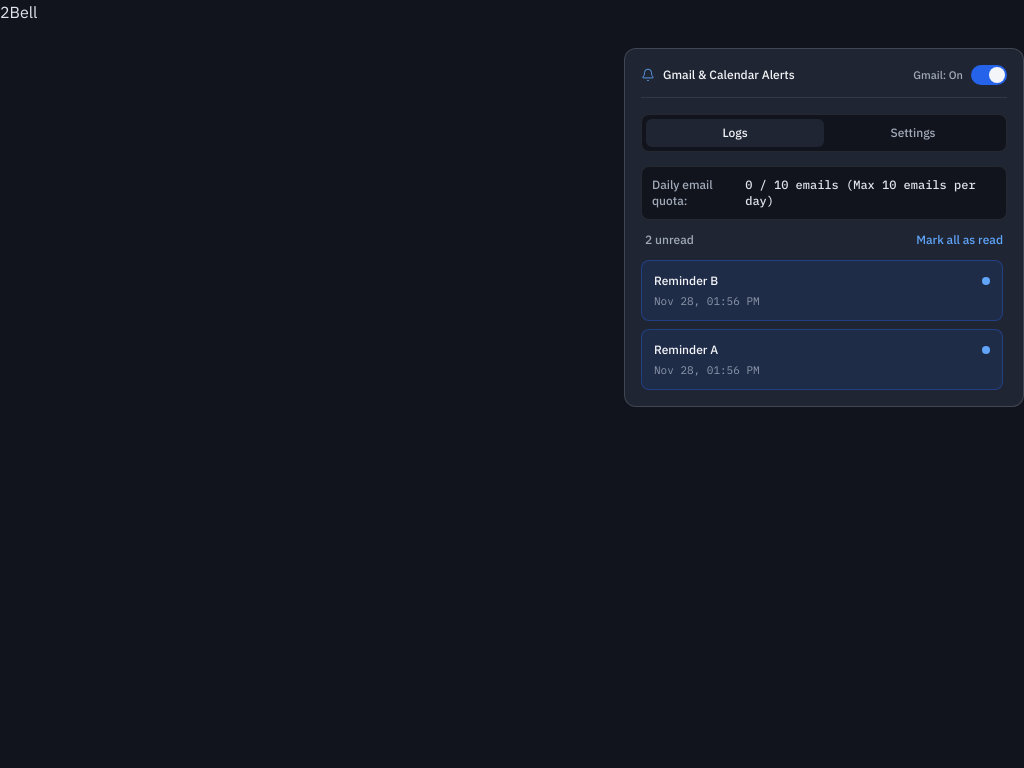
Test: Notification System Deduplication, Quota & Read/Unread UI › renders unread count in NotificationPopover and persists Read / Mark-all-as-read state
The width and height of the screenshot is (1024, 768).
Expected: the text with test id "harness-unread" reads "2", left=0, top=2, right=10, bottom=22
Expected: the text with test id "notification-unread-counter" shows "2", left=645, top=232, right=652, bottom=247
Click first notification to mark it read
Click the button "Reminder A": (686, 350) left=654, top=342, right=974, bottom=359
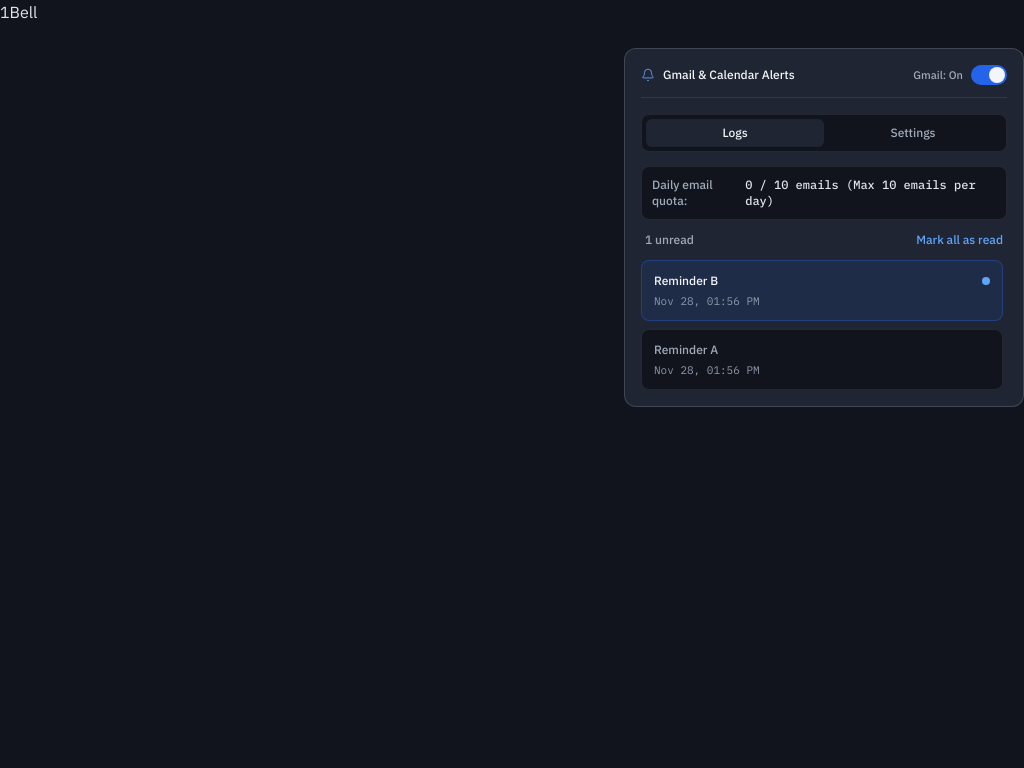
Expected: the text with test id "harness-unread" reads "1", left=0, top=2, right=10, bottom=22
Click Mark all as read
Click the button "Mark all as read": (960, 240) left=916, top=232, right=1003, bottom=248
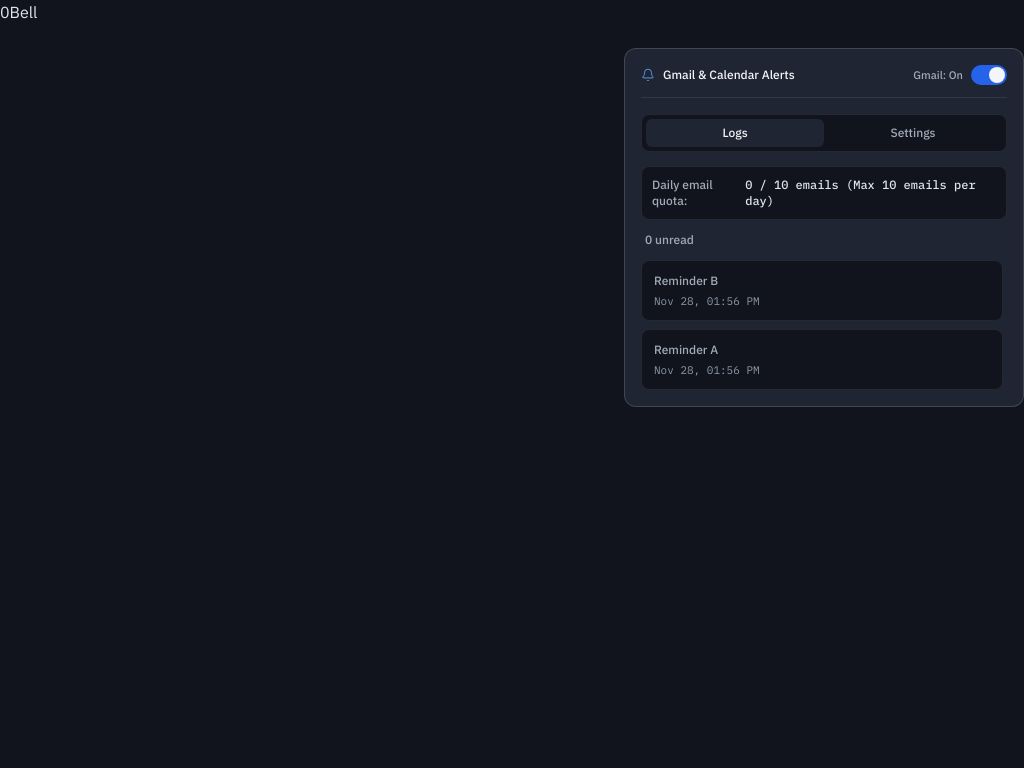
Expected: the text with test id "harness-unread" reads "0", left=0, top=2, right=10, bottom=22
